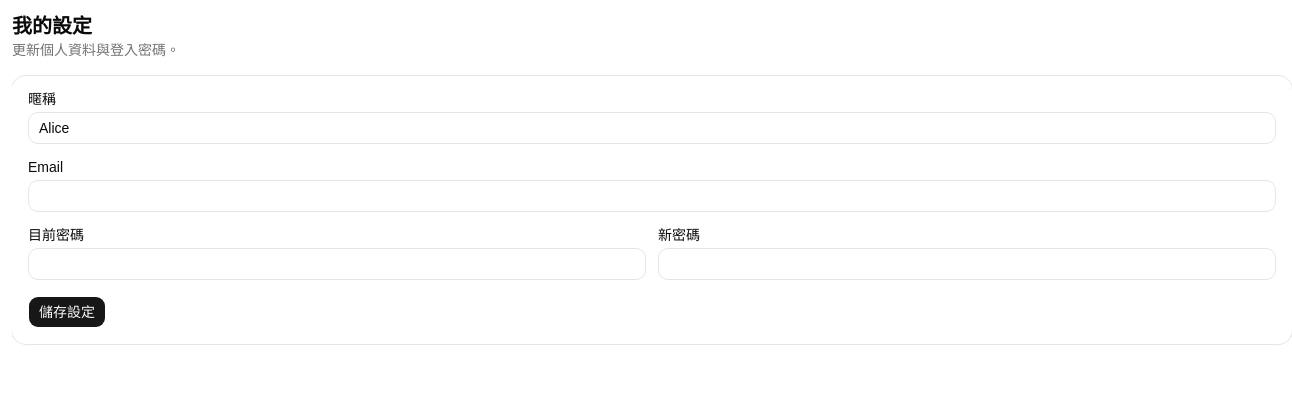
SettingsPage › updates profile and syncs auth user
The image size is (1292, 398).
Replace the text in the field labelled "暱稱" with "Alice Chen" at {"x": 652, "y": 128}, box [28,112,1276,144]
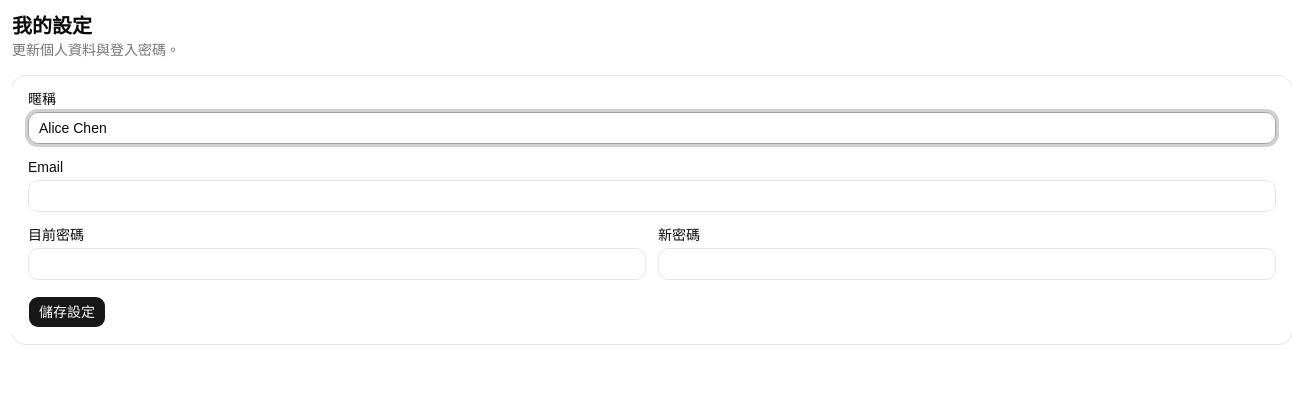
Type "alice@example.com" into the field labelled "Email" at {"x": 652, "y": 196}, box [28,180,1276,212]
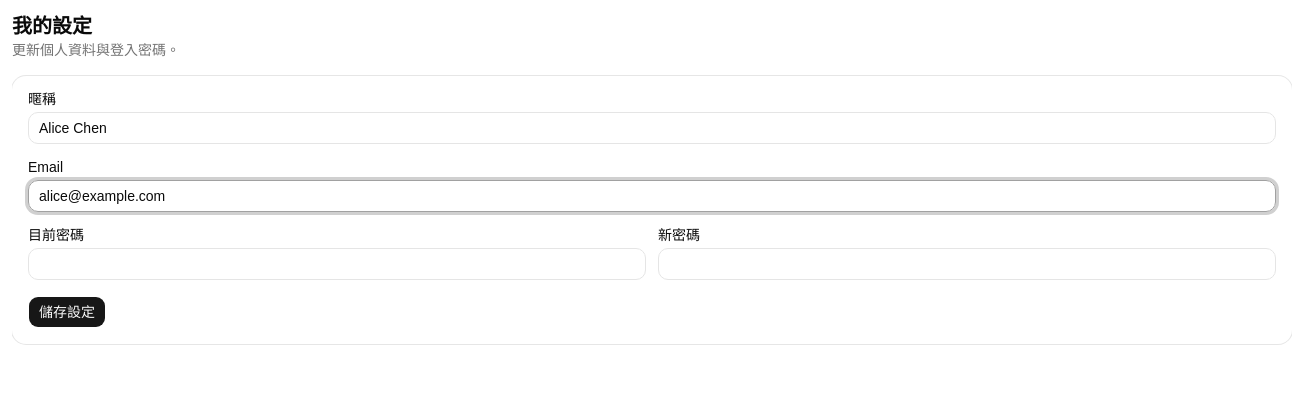
Click the button "儲存設定" at {"x": 67, "y": 312}, box [28,296,106,328]
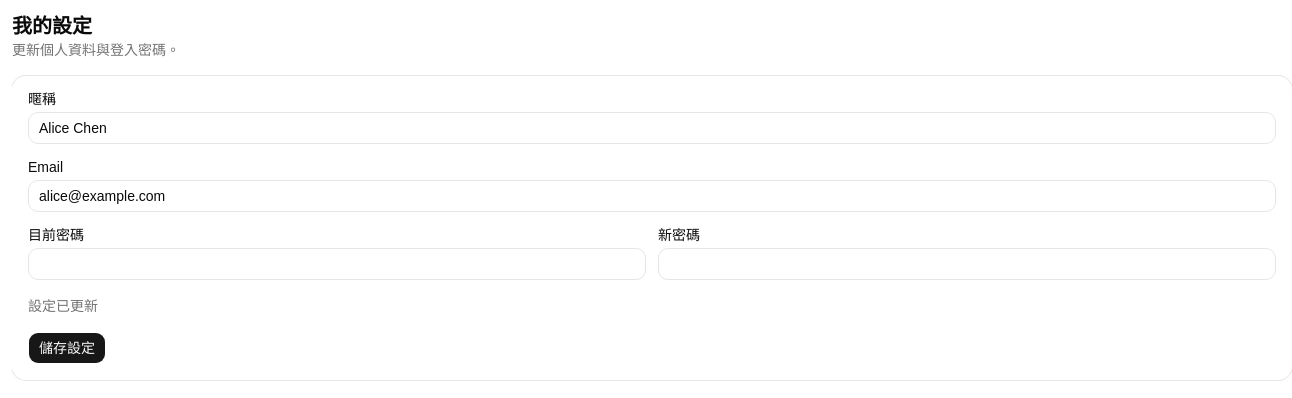
expect the text "設定已更新" is shown: met, box [28,298,98,314]
